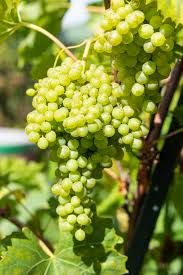grapes: (27, 63, 141, 243), (96, 9, 179, 100)
